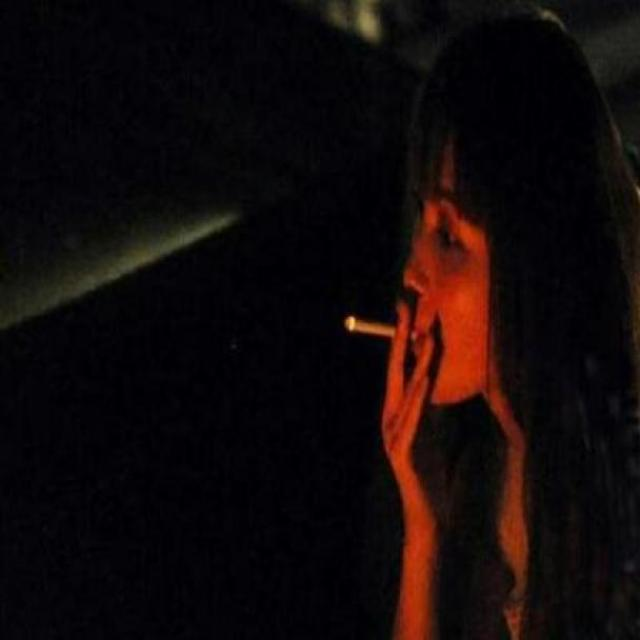rokok: (343, 310, 419, 342)
